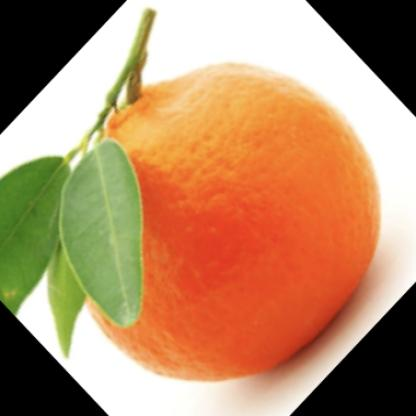fresh: (64, 62, 382, 383)
